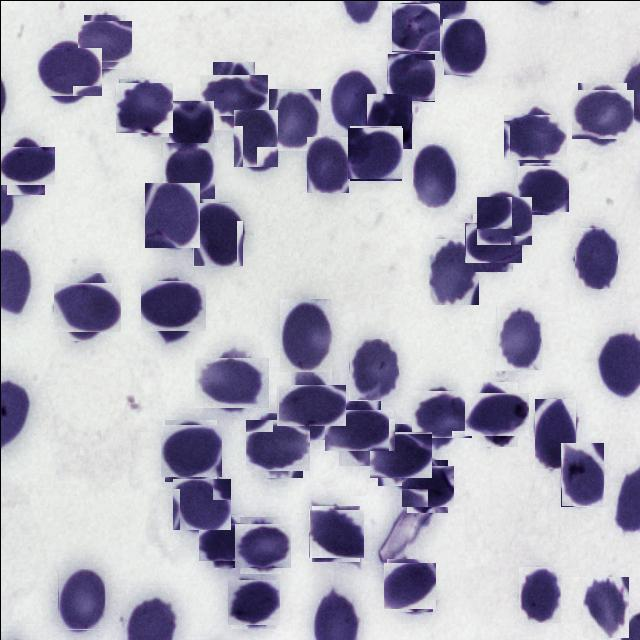red blood cell: (279, 296, 331, 371), (200, 350, 262, 412), (144, 182, 199, 247), (58, 276, 116, 336), (248, 416, 306, 474), (144, 276, 202, 334), (428, 238, 478, 304), (40, 43, 97, 100), (268, 88, 320, 150), (192, 202, 242, 266), (574, 86, 630, 142), (331, 402, 387, 458), (162, 422, 218, 478), (282, 376, 338, 432), (348, 338, 398, 400), (373, 426, 428, 482), (413, 386, 468, 441), (173, 476, 228, 531), (508, 109, 562, 164), (468, 386, 522, 441), (496, 306, 542, 370), (206, 68, 260, 122), (116, 80, 170, 134), (162, 142, 214, 198), (412, 143, 457, 207), (534, 398, 575, 468), (57, 568, 104, 629), (348, 126, 402, 179), (582, 576, 628, 637), (478, 194, 530, 247), (560, 442, 603, 506), (309, 506, 361, 558), (330, 70, 376, 128), (574, 227, 617, 288), (232, 109, 277, 167), (236, 519, 287, 570), (384, 560, 434, 610), (366, 93, 411, 148), (228, 577, 277, 626), (442, 18, 484, 75), (518, 566, 560, 622), (518, 164, 567, 212), (306, 136, 348, 192), (1, 140, 49, 189), (468, 217, 516, 266), (80, 17, 128, 65), (386, 52, 434, 100), (167, 100, 213, 150), (391, 2, 438, 50), (403, 462, 450, 509), (201, 518, 247, 564)
